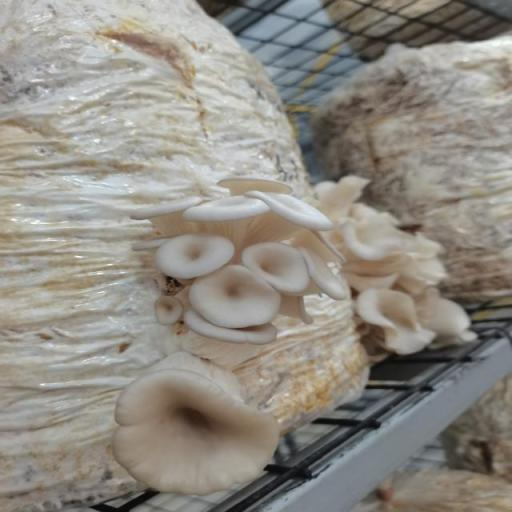White Oyster Mushroom: (100, 163, 355, 357), (301, 150, 492, 350), (87, 344, 299, 502)
